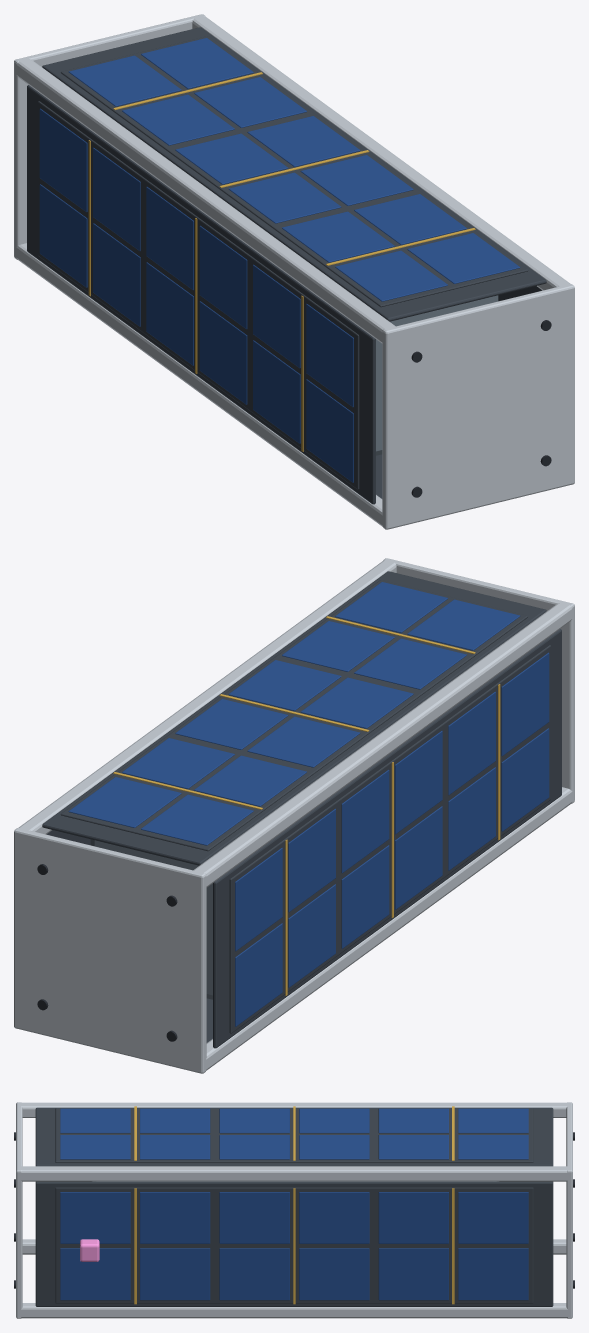
Rendered from detumble_3u.glb.
The picture shows the model from 3 angles, top to bottom: view 1: azimuth 30°, elevation 25°; view 2: azimuth 150°, elevation 25°; view 3: azimuth 270°, elevation 25°; orthographic projection. The views are drawn at different scales.
Visible parts, largest first — view 1: EndPlate_PosZ, SolarArray_NegX, FrameRail_NX_PY, SolarArray_PosY, SidePanel_NegX, SidePanel_PosY, FrameRail_NX_NY, FrameRail_PX_PY, EndPlate_NegZ, SolarCell_NegX_-1_3, SolarCell_NegX_+1_3, SolarCell_NegX_+1_0 (+22 smaller); view 2: EndPlate_NegZ, SolarArray_NegX, FrameRail_NX_PY, SolarArray_PosY, SidePanel_NegX, SidePanel_PosY, FrameRail_NX_NY, FrameRail_PX_PY, EndPlate_PosZ, SolarCell_NegX_-1_2, SolarCell_NegX_+1_2, SolarCell_NegX_+1_5 (+22 smaller); view 3: SolarArray_PosX, SidePanel_PosX, FrameRail_PX_PY, FrameRail_PX_NY, SolarArray_PosY, SidePanel_PosY, SolarCell_PosX_-1_0, SolarCell_PosX_-1_1, SolarCell_PosX_-1_2, SolarCell_PosX_-1_3, SolarCell_PosX_-1_4, SolarCell_PosX_+1_0 (+27 smaller).
Part boxes in pixels (left/top/right/bottom): EndPlate_PosZ: left=382, top=284, right=574, bottom=529; SolarArray_NegX: left=38, top=101, right=359, bottom=489; FrameRail_NX_PY: left=15, top=57, right=398, bottom=343; SolarArray_PosY: left=61, top=36, right=528, bottom=307; SidePanel_NegX: left=27, top=85, right=375, bottom=504; SidePanel_PosY: left=42, top=27, right=546, bottom=321; FrameRail_NX_NY: left=15, top=243, right=398, bottom=526; FrameRail_PX_PY: left=192, top=16, right=572, bottom=301; EndPlate_NegZ: left=14, top=14, right=205, bottom=259; SolarCell_NegX_-1_3: left=199, top=301, right=247, bottom=404; SolarCell_NegX_+1_3: left=199, top=225, right=247, bottom=329; SolarCell_NegX_+1_0: left=39, top=108, right=87, bottom=212; EndPlate_NegZ: left=14, top=828, right=206, bottom=1073; SolarArray_NegX: left=229, top=645, right=550, bottom=1033; FrameRail_NX_PY: left=190, top=602, right=574, bottom=887; SolarArray_PosY: left=60, top=580, right=527, bottom=851; SidePanel_NegX: left=213, top=629, right=561, bottom=1048; SidePanel_PosY: left=42, top=571, right=546, bottom=865; FrameRail_NX_NY: left=190, top=787, right=574, bottom=1070; FrameRail_PX_PY: left=16, top=559, right=396, bottom=845; EndPlate_PosZ: left=383, top=558, right=574, bottom=803; SolarCell_NegX_-1_2: left=341, top=845, right=389, bottom=948; SolarCell_NegX_+1_2: left=341, top=769, right=389, bottom=873; SolarCell_NegX_+1_5: left=501, top=652, right=549, bottom=756; SolarArray_PosX: left=55, top=1187, right=533, bottom=1303; SidePanel_PosX: left=35, top=1182, right=553, bottom=1306; FrameRail_PX_PY: left=18, top=1166, right=570, bottom=1181; FrameRail_PX_NY: left=21, top=1303, right=567, bottom=1318; SolarArray_PosY: left=55, top=1108, right=533, bottom=1162; SidePanel_PosY: left=35, top=1107, right=553, bottom=1166; SolarCell_PosX_-1_0: left=458, top=1248, right=528, bottom=1300; SolarCell_PosX_-1_1: left=378, top=1248, right=448, bottom=1300; SolarCell_PosX_-1_2: left=299, top=1248, right=369, bottom=1300; SolarCell_PosX_-1_3: left=219, top=1248, right=289, bottom=1300; SolarCell_PosX_-1_4: left=140, top=1248, right=210, bottom=1300; SolarCell_PosX_+1_0: left=458, top=1192, right=528, bottom=1243.
Bounding box in the file's own units: 0.115 × 0.104 × 0.3425.
